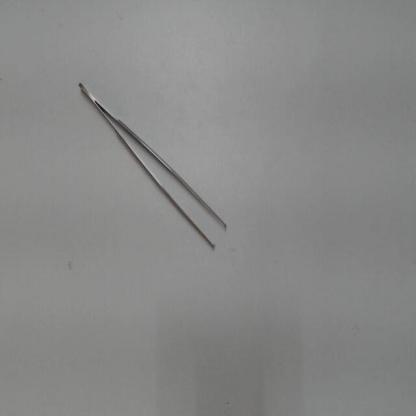Gillies Toothed Dissector: (70, 66, 241, 262)
